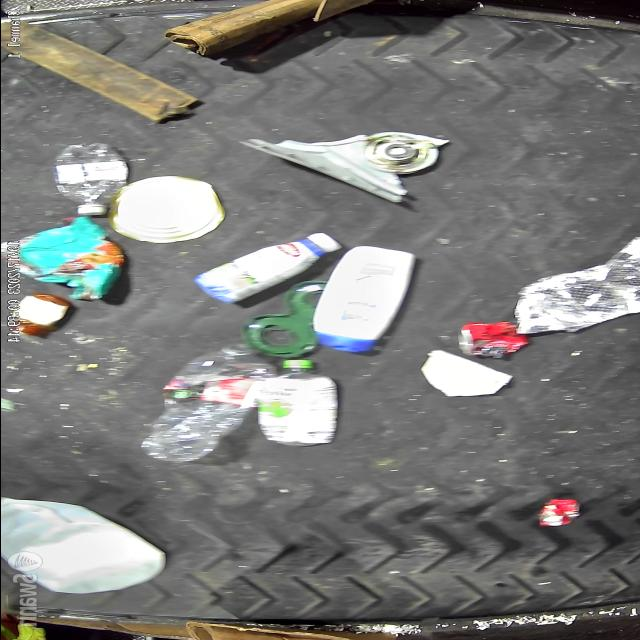can: (108, 176, 224, 243), (454, 322, 528, 358), (535, 498, 581, 528)
milk_jug: (0, 498, 166, 594)
non_white_jug: (313, 245, 419, 355)
plastic_bottle: (140, 345, 273, 462), (254, 361, 336, 446), (54, 142, 130, 214)
